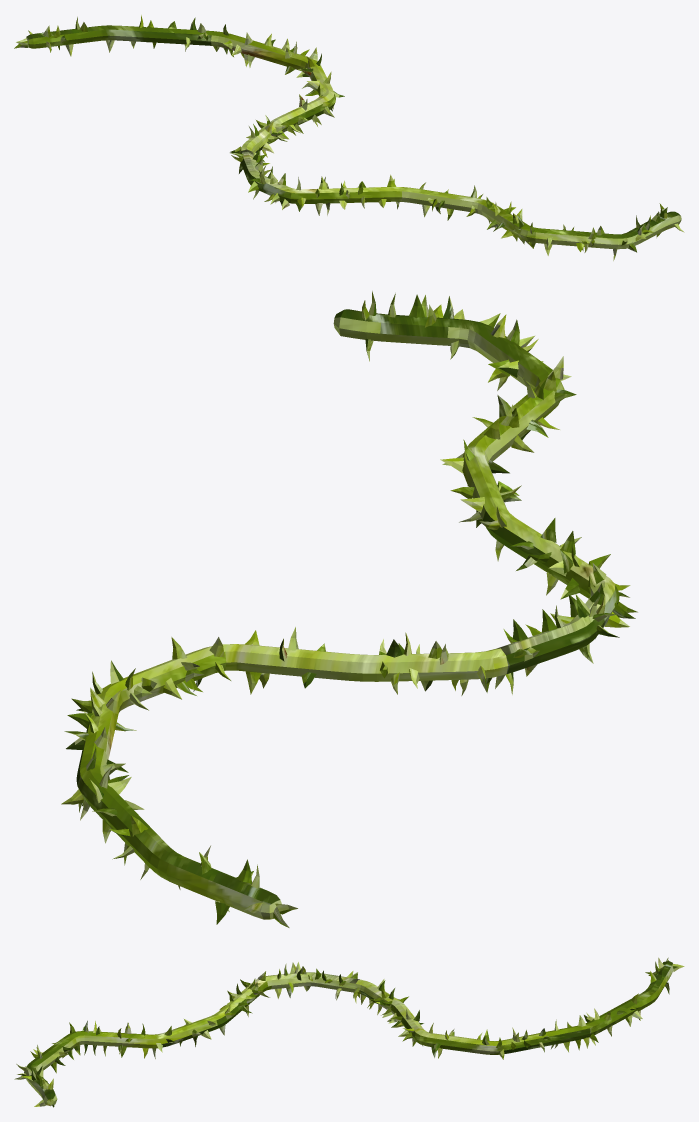
The model's file is tappuraisoPALA.fbx.
The picture shows the model from 3 angles, top to bottom: view 1: azimuth 30°, elevation 25°; view 2: azimuth 150°, elevation 25°; view 3: azimuth 270°, elevation 25°; orthographic projection. The views are drawn at different scales.
Parts seen in each view (by area): view 1: BezierCurve.005; view 2: BezierCurve.005; view 3: BezierCurve.005.
Boxes of the visible parts, box(x1,y1,x2,y2) form: BezierCurve.005: box(14, 15, 684, 260); BezierCurve.005: box(61, 291, 637, 927); BezierCurve.005: box(14, 957, 684, 1107).
Bounding box in the file's own units: 1081 × 129 × 2161.
